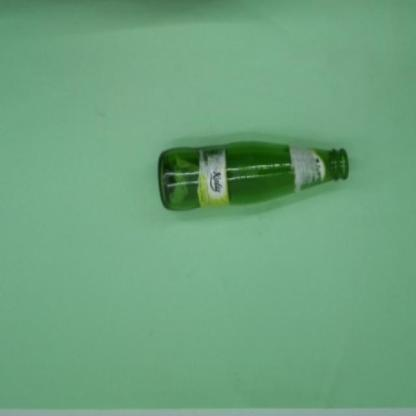Can: (158, 140, 349, 211)
